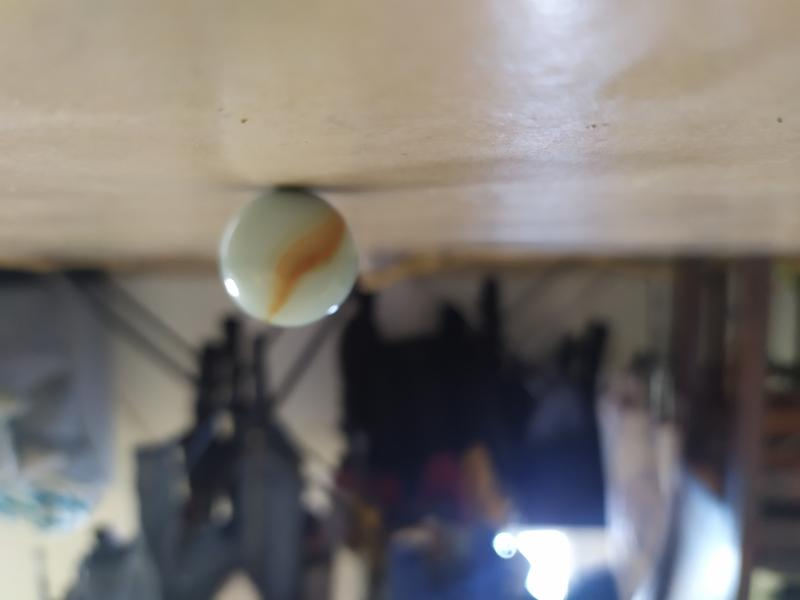Warning: (216, 184, 364, 333)
